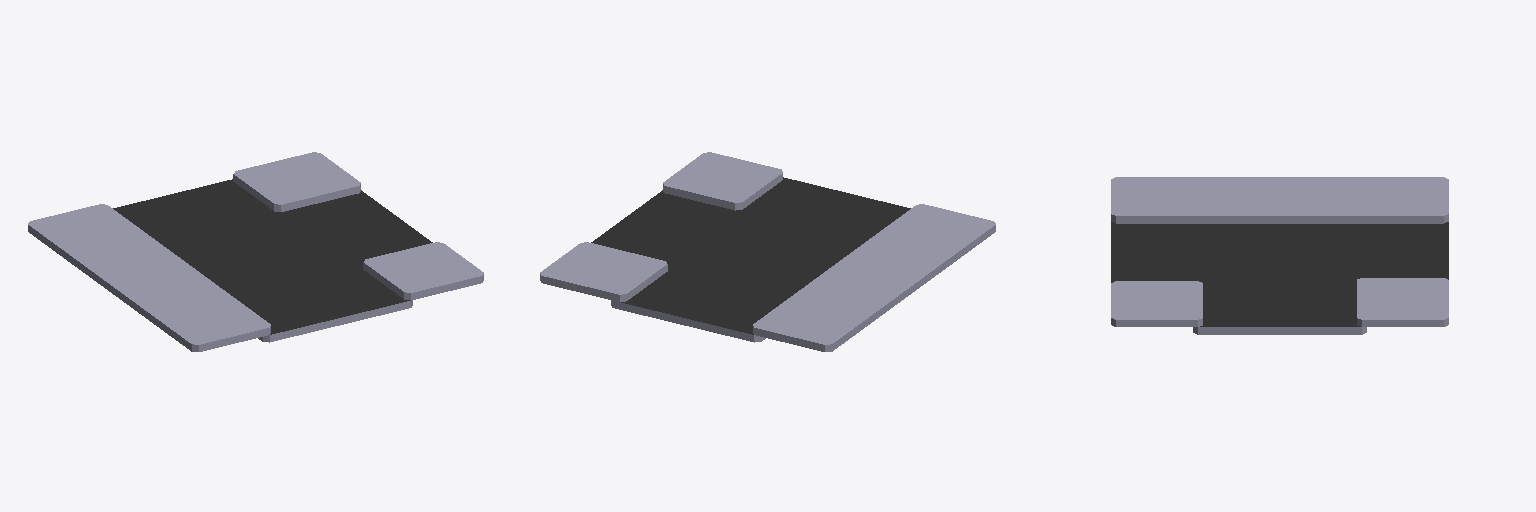
File: street3.obj
3 renders of one model, left to right at view 1: azimuth 30°, elevation 25°; view 2: azimuth 150°, elevation 25°; view 3: azimuth 270°, elevation 25°, orthographic.
Size of the model in its own units: 4.12 by 0.2 by 4.12.